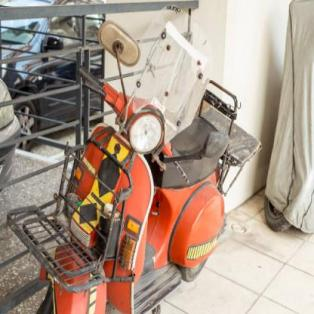Motocicleta: (22, 62, 260, 313)
